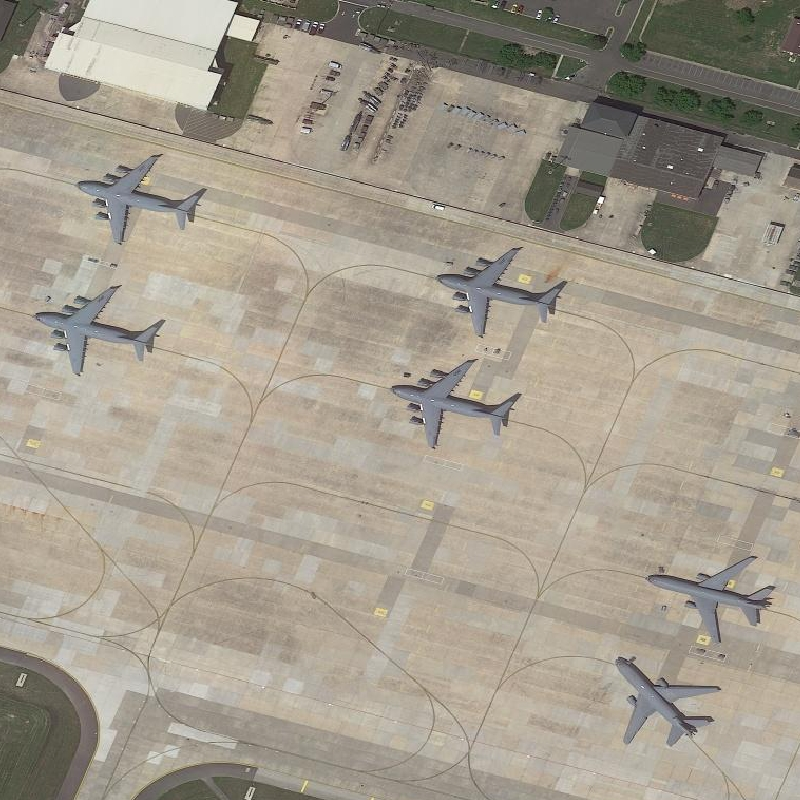A18: (641, 544, 783, 651), (602, 650, 725, 750)
A3: (26, 280, 169, 382), (68, 150, 208, 251), (384, 351, 522, 453), (433, 239, 564, 345)
